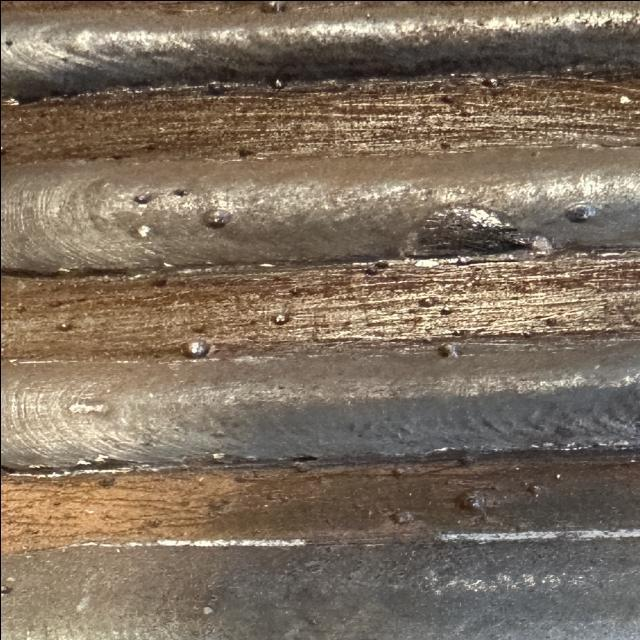Spatters: (563, 202, 597, 222), (453, 490, 485, 511), (180, 339, 210, 359), (202, 209, 232, 229), (258, 0, 287, 14), (263, 74, 290, 89), (363, 261, 388, 275), (390, 510, 413, 525), (437, 342, 458, 358), (132, 192, 153, 204), (480, 77, 502, 88), (390, 465, 407, 478), (417, 297, 437, 308), (272, 314, 288, 325), (456, 458, 473, 468), (0, 96, 18, 105), (55, 322, 73, 331), (0, 584, 12, 595), (468, 498, 480, 508), (172, 189, 188, 196), (438, 308, 452, 315), (555, 473, 560, 478)
